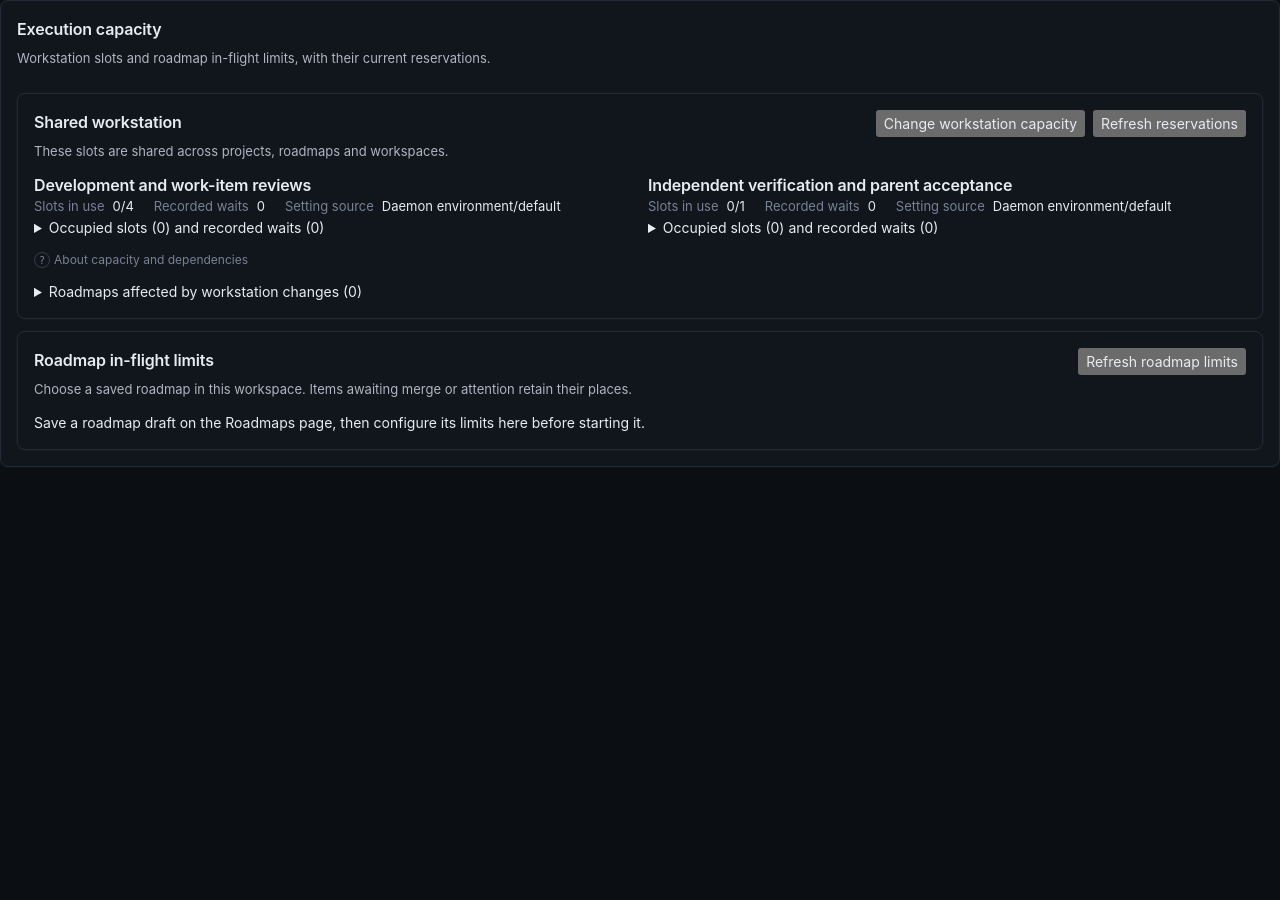
it: saves both workstation pools and keeps the original edit through an occupancy refresh
The width and height of the screenshot is (1280, 900).
Expected: the text "0/4" is shown, 112,197 -> 134,216
Click the button "Change workstation capacity" at (981, 123), box 876,110 -> 1085,136
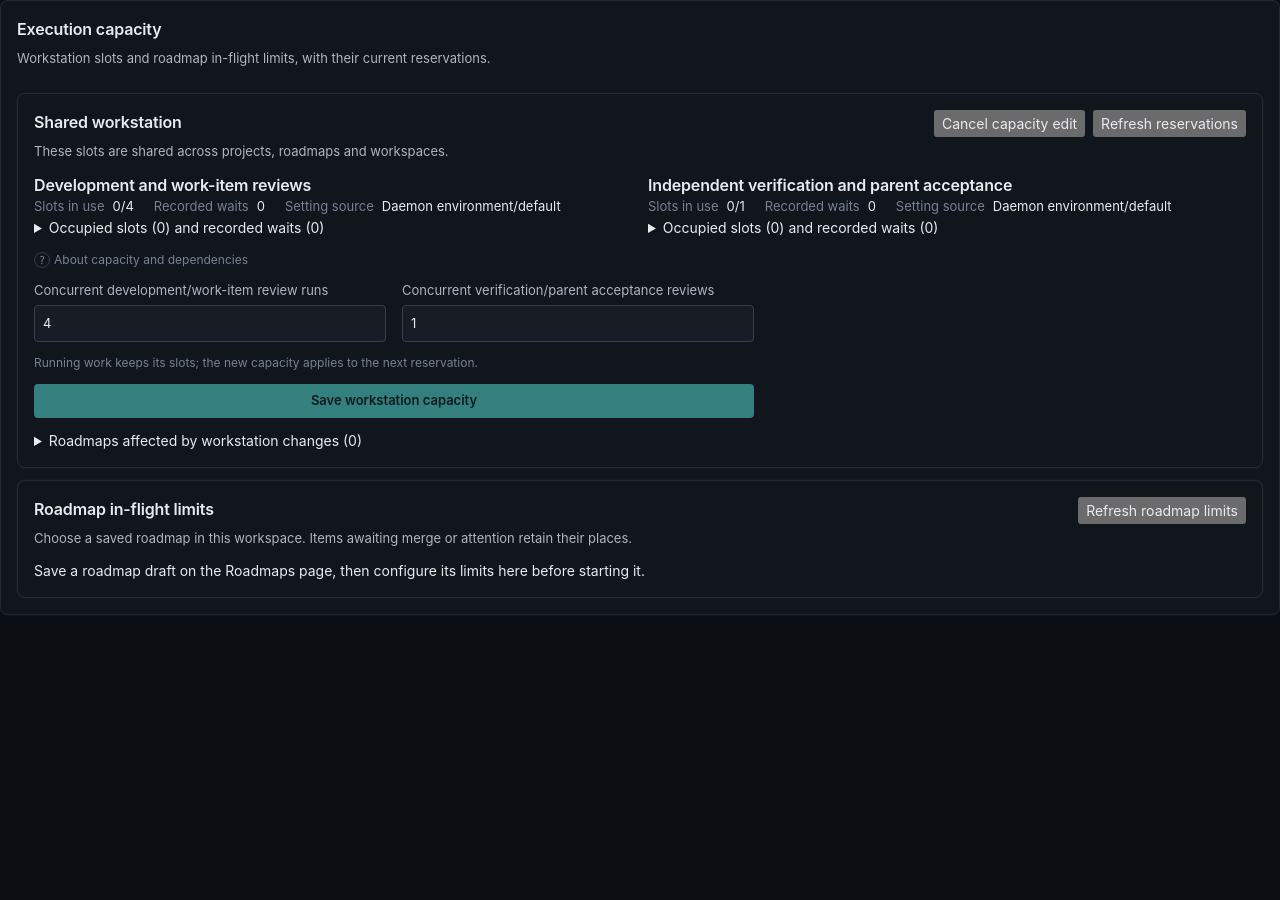
Replace the text in the number field labelled "Concurrent verification/parent acceptance reviews" with "2" at (578, 323), box 402,304 -> 754,342
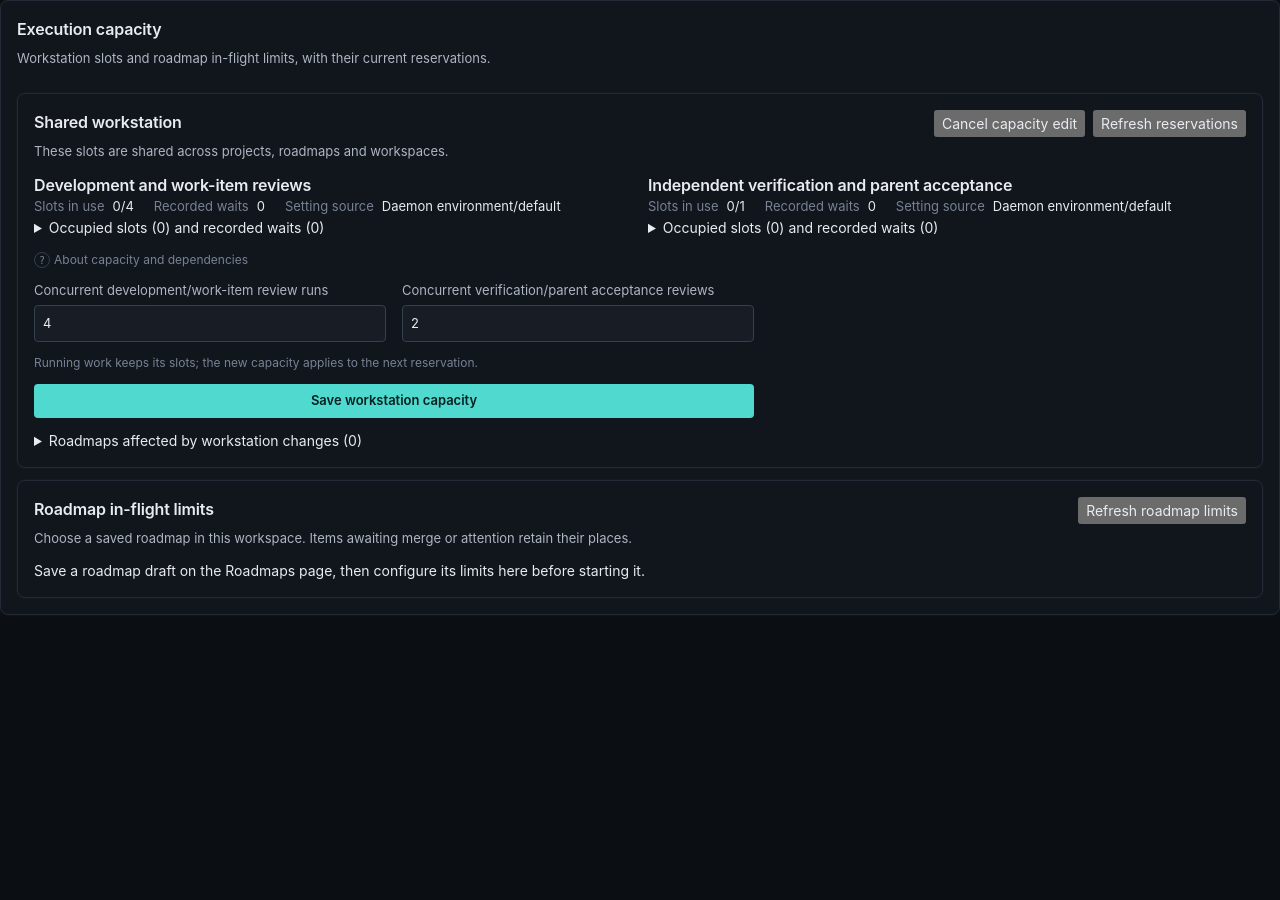
Click the button "Refresh reservations" at (1170, 123), box 1093,110 -> 1246,136
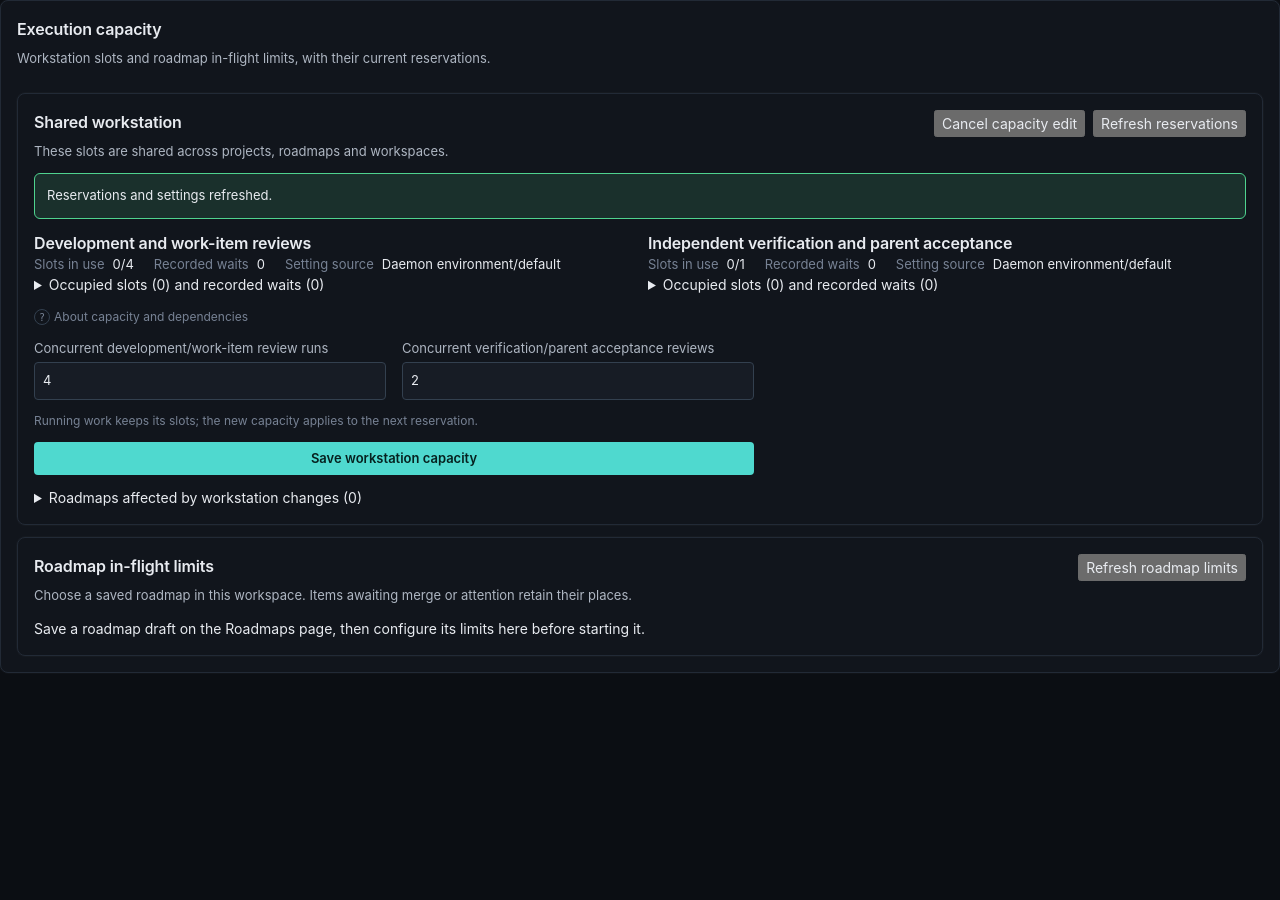
Now the text "Reservations and settings refreshed." is shown, box 34,173 -> 1246,218
Click the button "Save workstation capacity" at (394, 458), box 34,442 -> 754,475
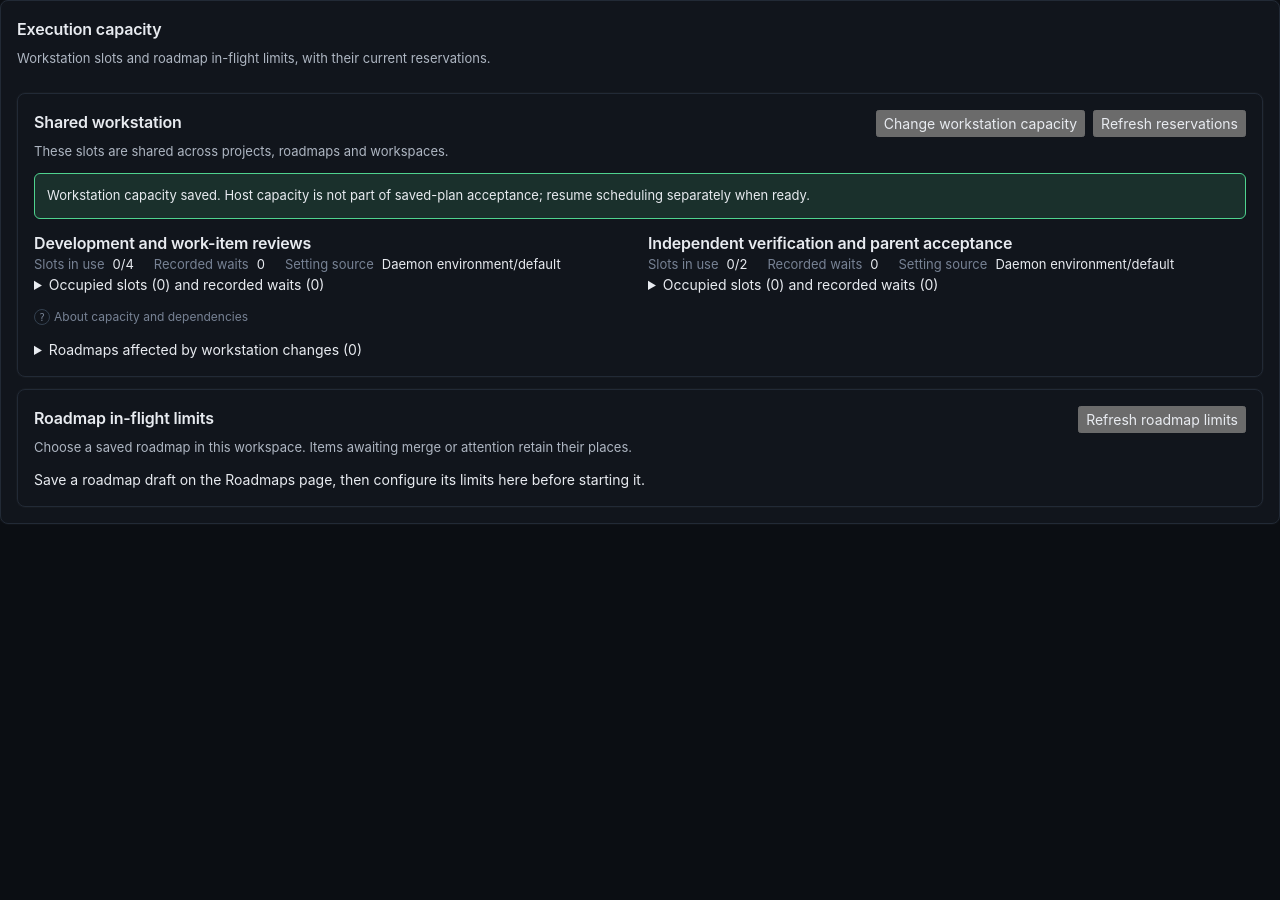
Now the text "Workstation capacity saved" is shown, box 47,187 -> 810,203
